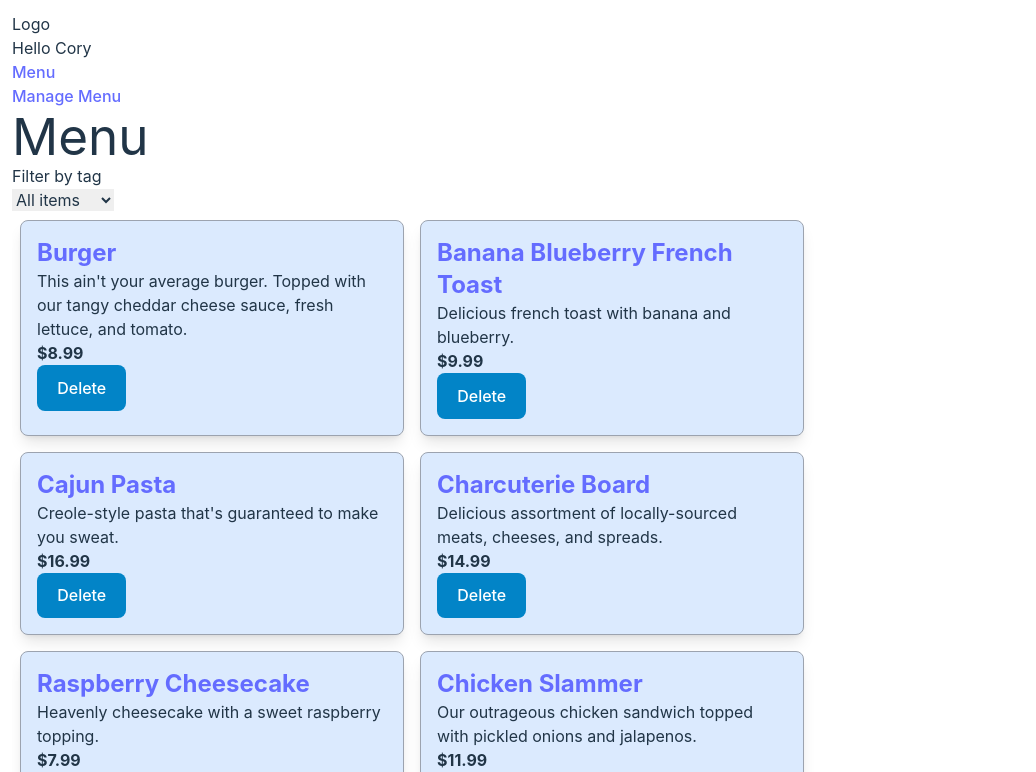
it: should display the foods page at the root URL and support filtering menu items
The width and height of the screenshot is (1036, 772).
Expected: the heading "Menu" is shown, [12, 105, 149, 167]
Select "Breakfast" in the dropdown labelled "Filter by tag" at point(63, 200), box [12, 189, 114, 211]
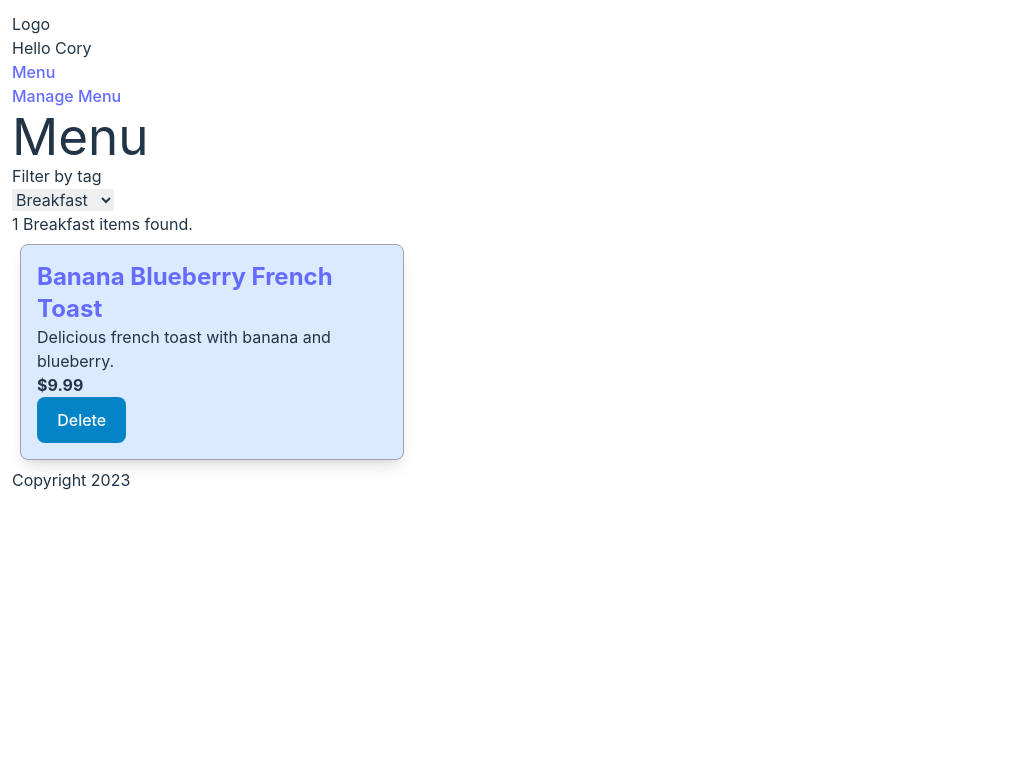
Expected: the text "1 Breakfast items found." is shown, [12, 214, 193, 234]
